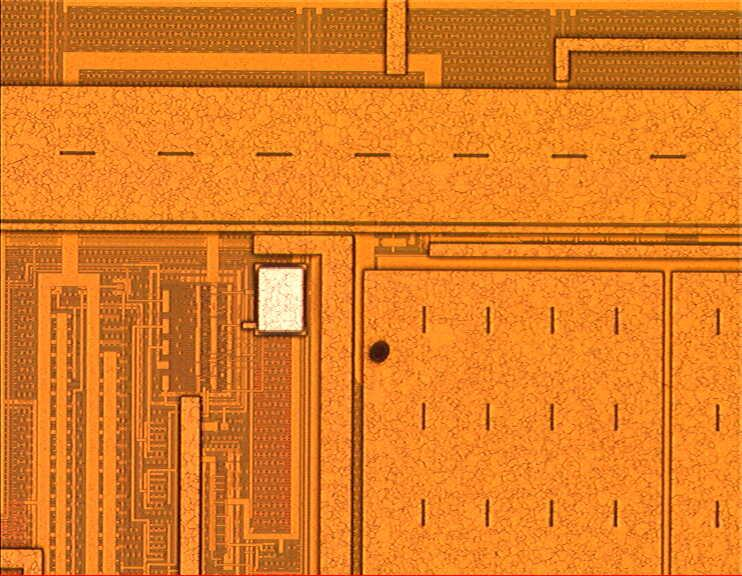PIQ PARTICLE: (364, 334, 400, 370)
